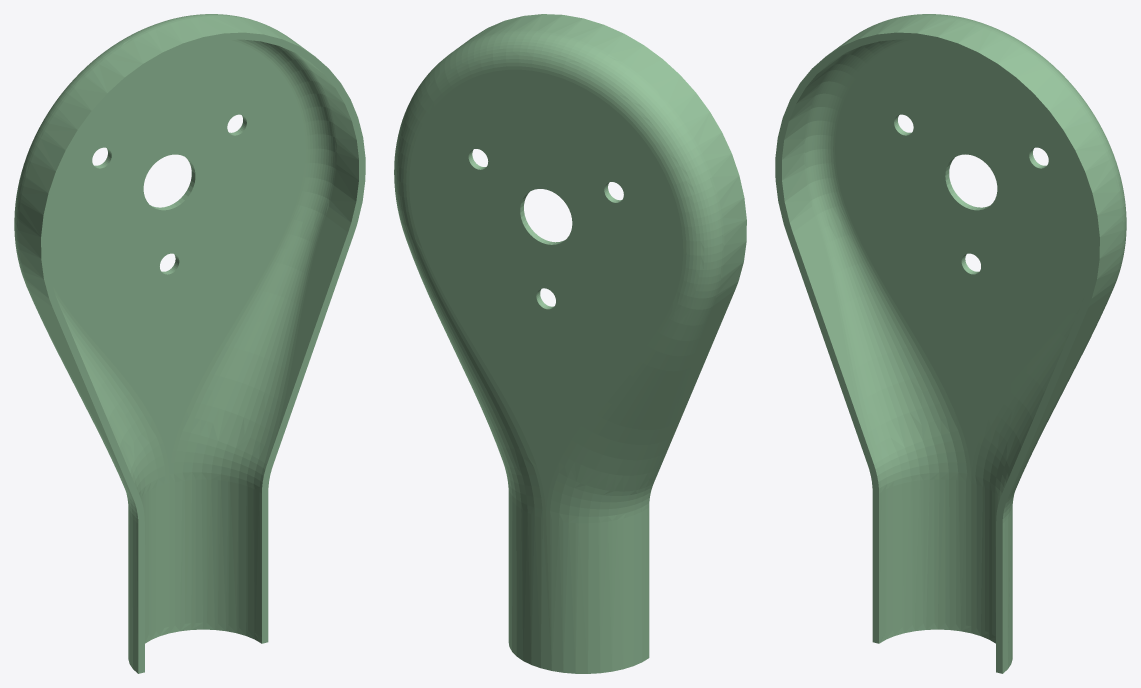
The model's file is case-05_lib00004.glb.
3 renders of one model, left to right at view 1: azimuth 30°, elevation 25°; view 2: azimuth 150°, elevation 25°; view 3: azimuth 330°, elevation 25°, orthographic.
Parts seen in each view (by area): view 1: lib00004; view 2: lib00004; view 3: lib00004.
Part boxes in pixels (left/top/right/bottom): lib00004: left=14, top=14, right=365, bottom=673; lib00004: left=394, top=14, right=746, bottom=673; lib00004: left=775, top=14, right=1126, bottom=673.
Bounding box in the file's own units: 42.72 × 78 × 8.54.
